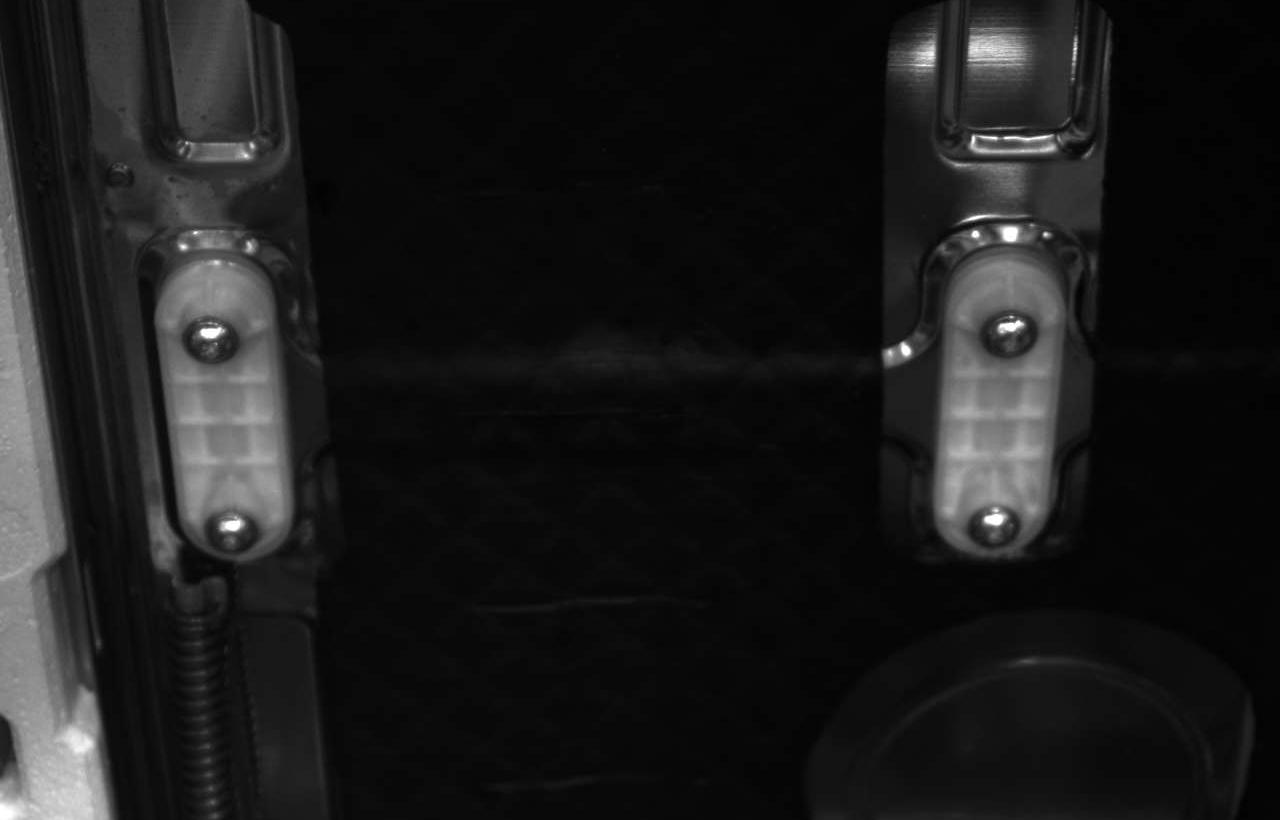vida-ok: (174, 308, 246, 375), (979, 301, 1046, 368), (966, 487, 1031, 555), (199, 502, 264, 561)
